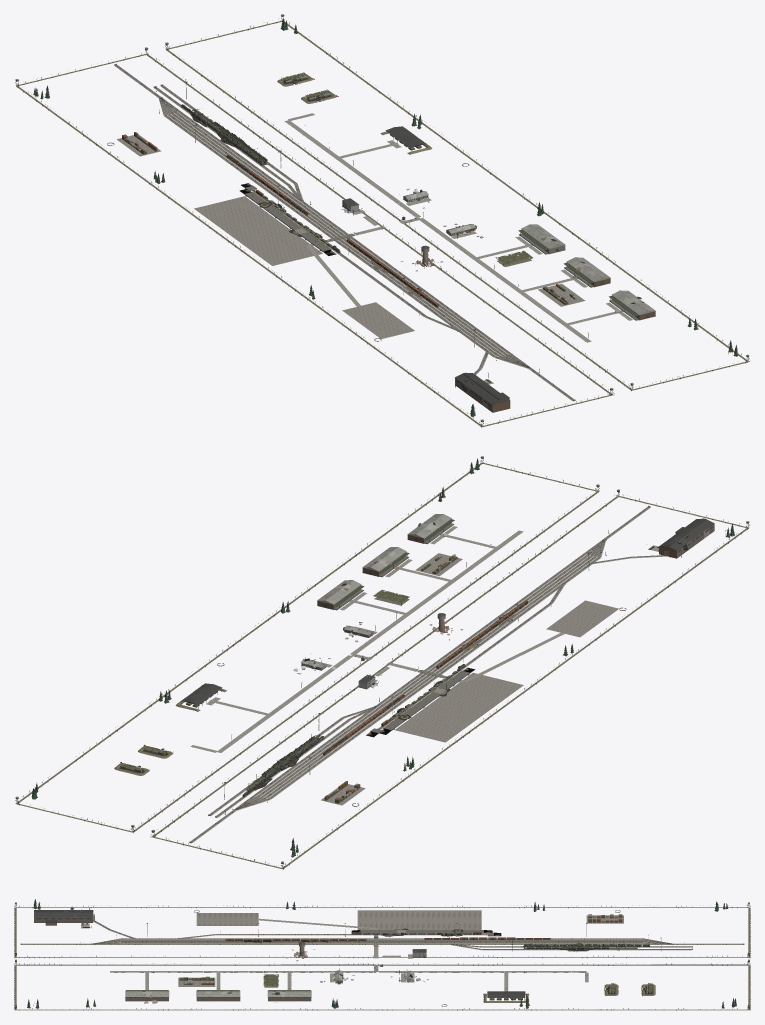
Rendered from site_rail_w.glb.
3 renders of one model, top to bottom at view 1: azimuth 30°, elevation 25°; view 2: azimuth 150°, elevation 25°; view 3: azimuth 270°, elevation 25°, orthographic. The views are drawn at different scales.
Visible parts, largest first — view 1: deco|tile_gravel, deco|F_A, deco|tile_conc, b_depot|F_A, b_ramp|F_A, b_store3|F_A, deco_trees|F_A, b_store2|F_A; view 2: deco|tile_gravel, deco|F_A, deco|tile_conc, b_depot|F_A, b_store3|F_A, b_store2|F_A, b_store1|F_A, deco_trees|F_A, b_depot_ruin|F_B; view 3: deco|F_A, deco|tile_gravel, deco|tile_conc, b_depot|F_A, b_store2|F_A, b_ramp|F_A, b_tanktrain|F_A, b_store3|F_A, b_store4|F_A, b_store1|F_A, deco_trees|F_A, b_boxtrain|F_A (+8 smaller).
Part boxes in pixels (box(x1,y1,x2,y2)): deco|tile_gravel: box(114, 65, 585, 400); deco|F_A: box(15, 14, 749, 427); deco|tile_conc: box(284, 113, 632, 384); b_depot|F_A: box(455, 373, 510, 412); b_ramp|F_A: box(239, 183, 336, 255); b_store3|F_A: box(609, 290, 655, 320); deco_trees|F_A: box(33, 19, 737, 416); b_store2|F_A: box(564, 257, 610, 287); deco|tile_gravel: box(190, 507, 667, 842); deco|F_A: box(15, 456, 749, 869); deco|tile_conc: box(190, 526, 658, 752); b_depot|F_A: box(659, 518, 714, 558); b_store3|F_A: box(407, 514, 454, 544); b_store2|F_A: box(362, 547, 409, 577); b_store1|F_A: box(317, 580, 364, 610); deco_trees|F_A: box(31, 458, 734, 857); b_depot_ruin|F_B: box(659, 518, 714, 557); deco|F_A: box(14, 902, 750, 1010); deco|tile_gravel: box(22, 910, 743, 986); deco|tile_conc: box(81, 918, 588, 991); b_depot|F_A: box(34, 907, 94, 925); b_store2|F_A: box(196, 990, 240, 1001); b_ramp|F_A: box(351, 928, 501, 936); b_tanktrain|F_A: box(523, 943, 649, 949); b_store3|F_A: box(125, 990, 169, 1001); b_store4|F_A: box(483, 991, 529, 1002); b_store1|F_A: box(267, 990, 311, 1001); deco_trees|F_A: box(27, 899, 736, 1008); b_boxtrain|F_A: box(225, 938, 366, 941).
Size of the model in its own units: 397 by 31.02 by 1191.
60 materials, 37 textured.
